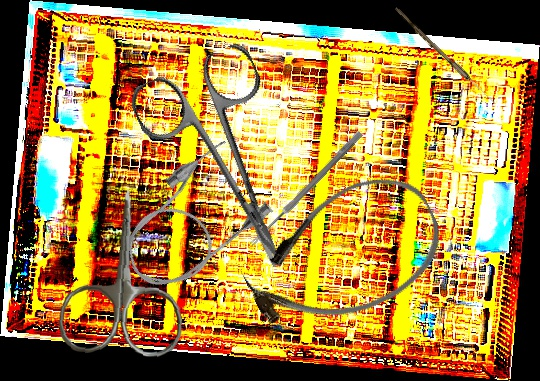Cannula: (227, 158, 459, 353), (102, 133, 281, 306)
Iris Scissors: (125, 39, 333, 294), (56, 184, 192, 360)
Surgical Spoon: (248, 130, 364, 248), (392, 6, 498, 106)
